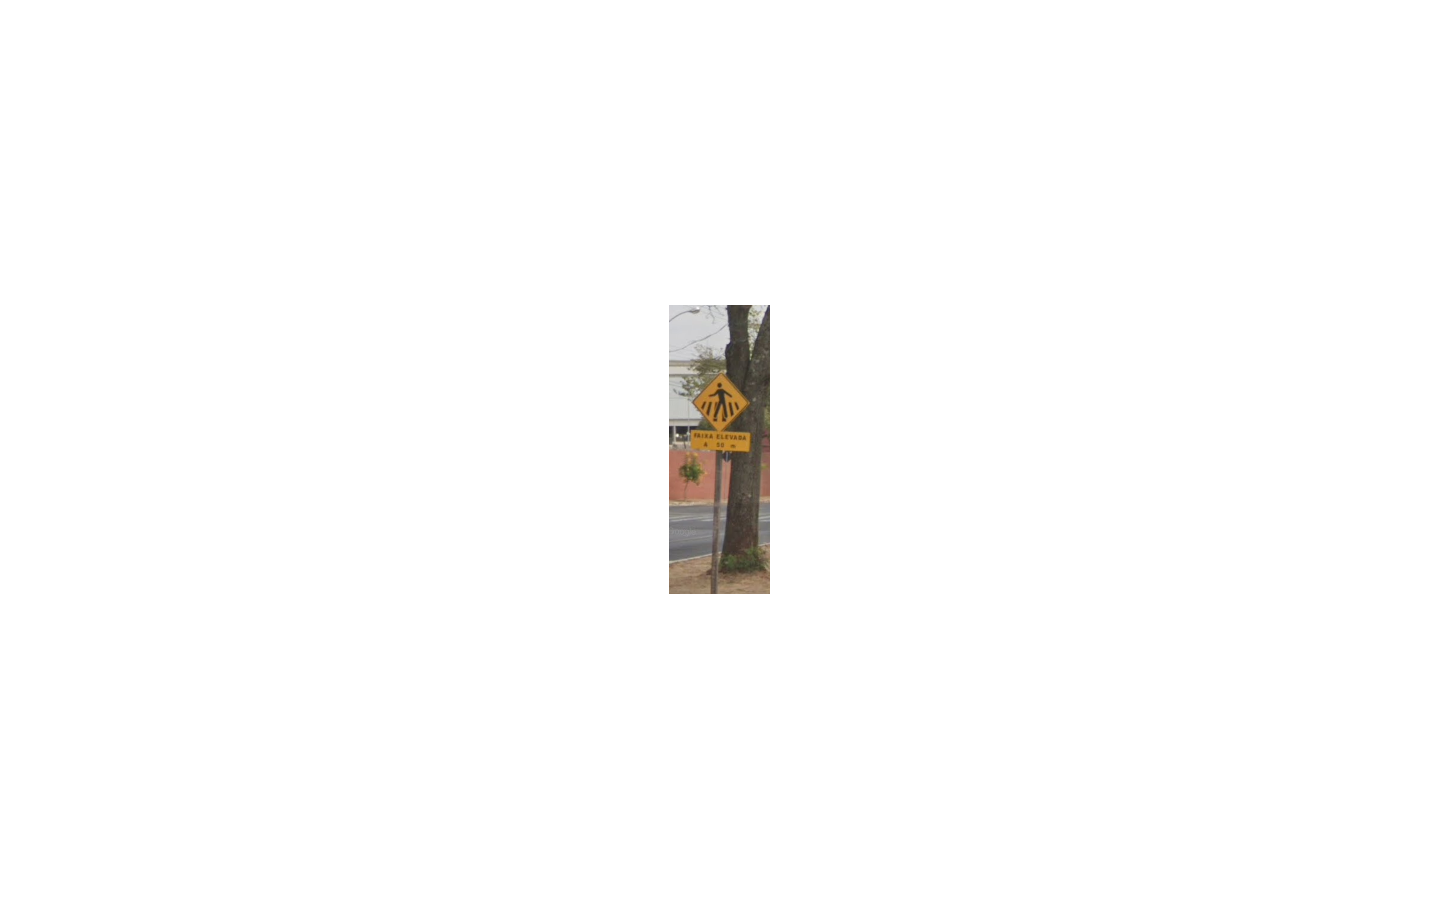t50m: (691, 373, 751, 452)
